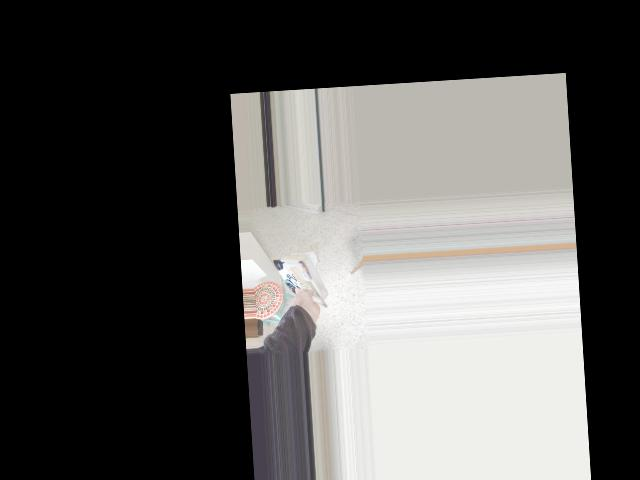cheese: (263, 249, 336, 324)
